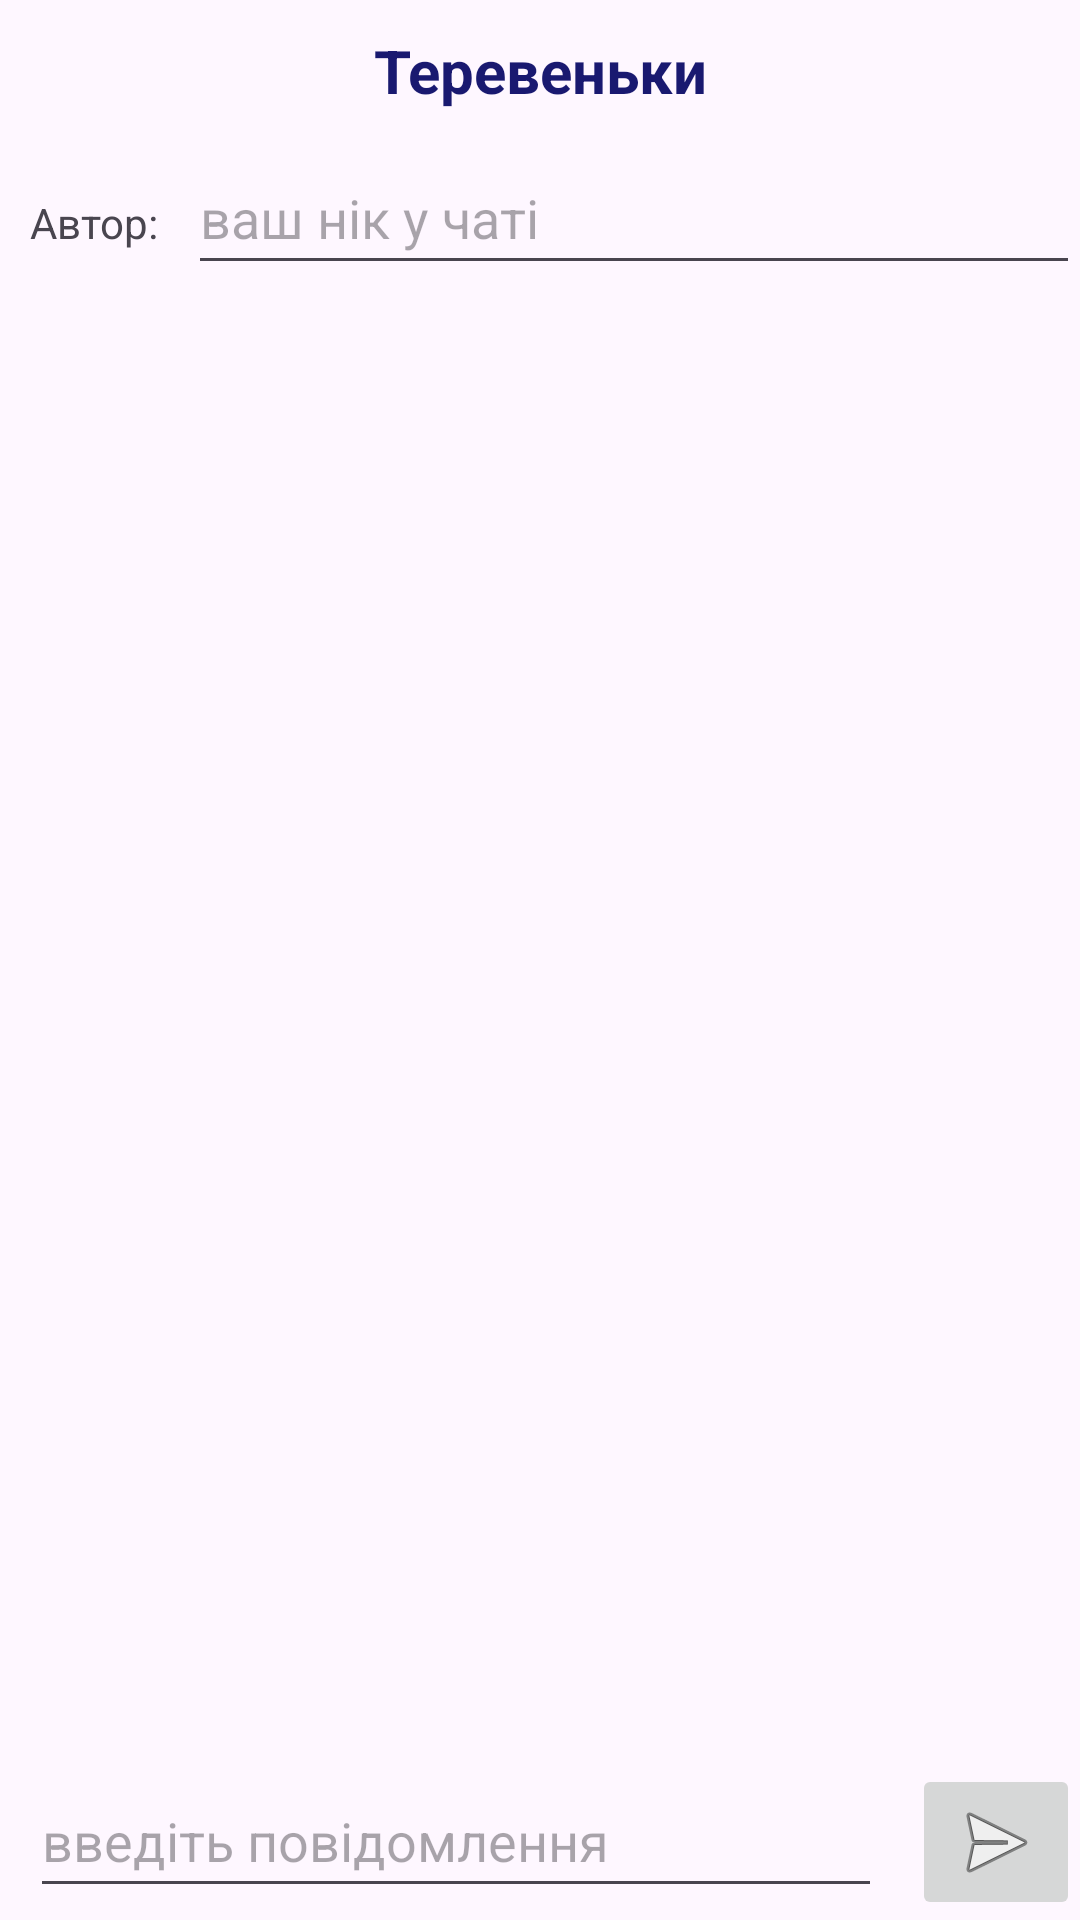

Screen size 1080*1920. Icon name, then its box in pixels as (x1, y1, x2, y2):
Надіслати повідомлення: (924, 1782, 1068, 1902)
